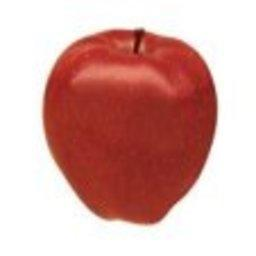apple: (44, 25, 219, 222)
